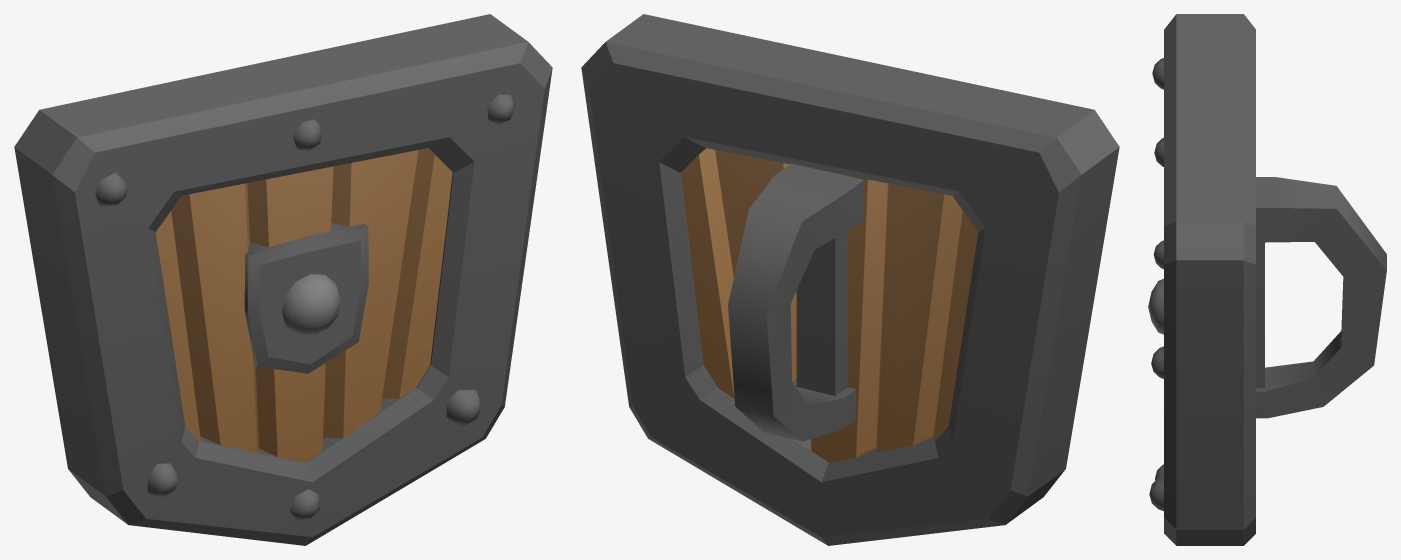
The model's file is Shield_LHand_3.fbx.
The picture shows the model from 3 angles, left to right: view 1: azimuth 30°, elevation 25°; view 2: azimuth 150°, elevation 25°; view 3: azimuth 270°, elevation 25°; orthographic projection. The views are drawn at different scales.
Visible parts, largest first — view 1: Shield_LHand_3; view 2: Shield_LHand_3; view 3: Shield_LHand_3.
Boxes of the visible parts, <box> form: Shield_LHand_3: <box>14,14,552,545</box>; Shield_LHand_3: <box>581,14,1119,545</box>; Shield_LHand_3: <box>1148,14,1386,545</box>.
Bounding box in the file's own units: 49.79 × 44.13 × 23.22.
